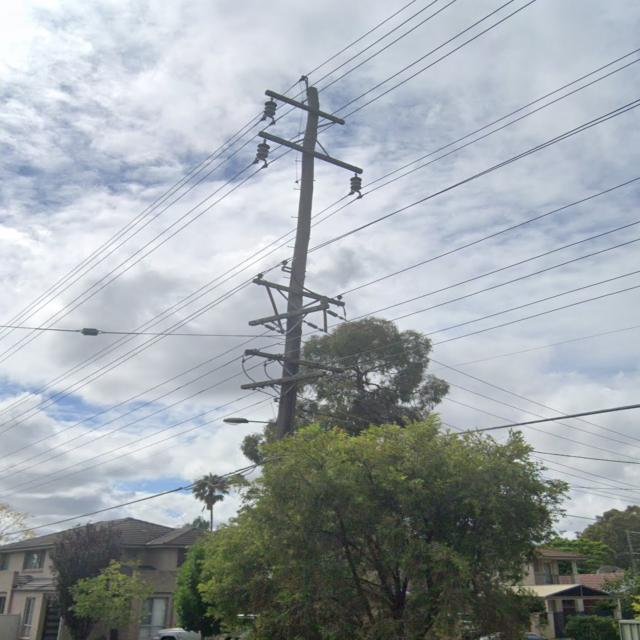HV-transmission: (252, 75, 365, 201), (257, 258, 344, 302), (263, 308, 348, 336)
crossarm: (257, 131, 364, 171), (264, 88, 344, 124), (252, 279, 344, 306), (243, 350, 341, 371), (249, 305, 326, 327), (241, 371, 328, 389)
streetlight: (222, 418, 274, 426)
timber-pole: (274, 83, 318, 437)
